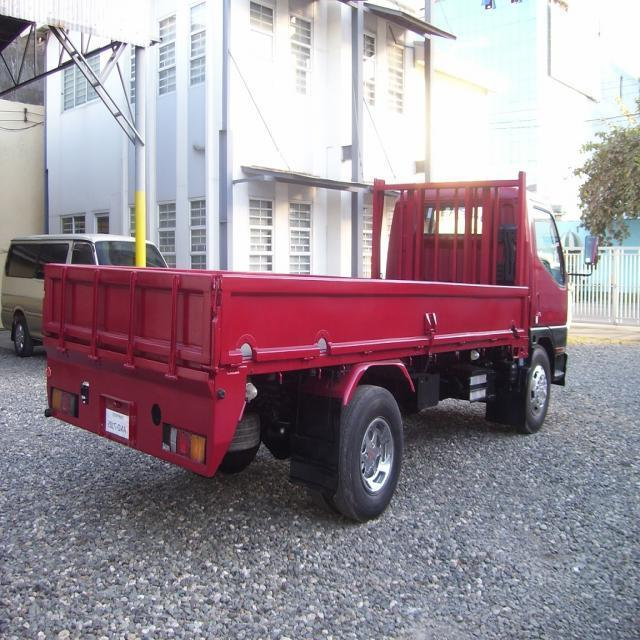truck: (44, 174, 600, 522)
